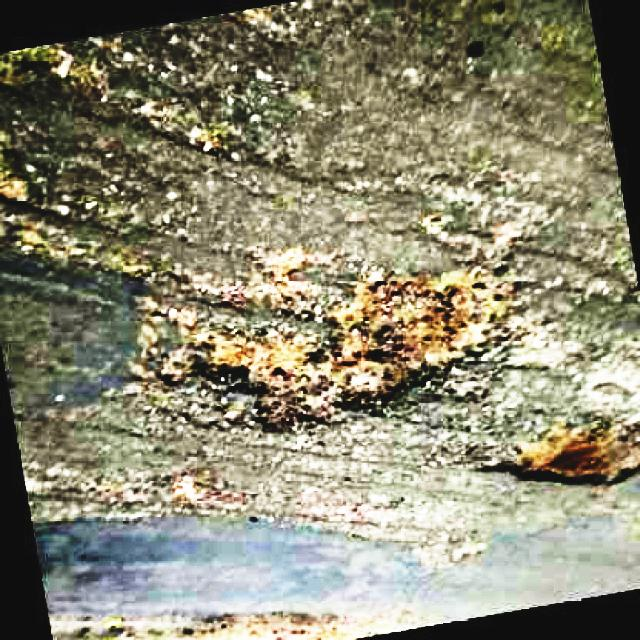pothole: (142, 269, 520, 437), (489, 414, 640, 491)
